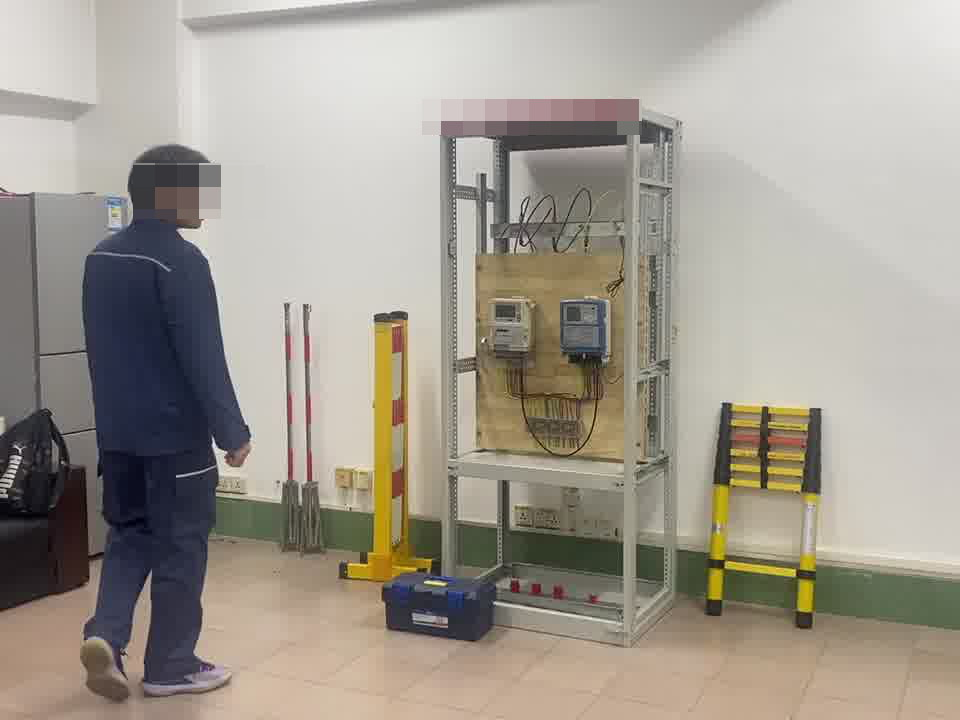downsuit: (88, 465, 222, 668)
hand: (226, 444, 251, 468)
noear: (151, 171, 177, 220)
person: (76, 142, 259, 693)
unhalt: (127, 143, 218, 228)
upsuit: (83, 219, 250, 456)
